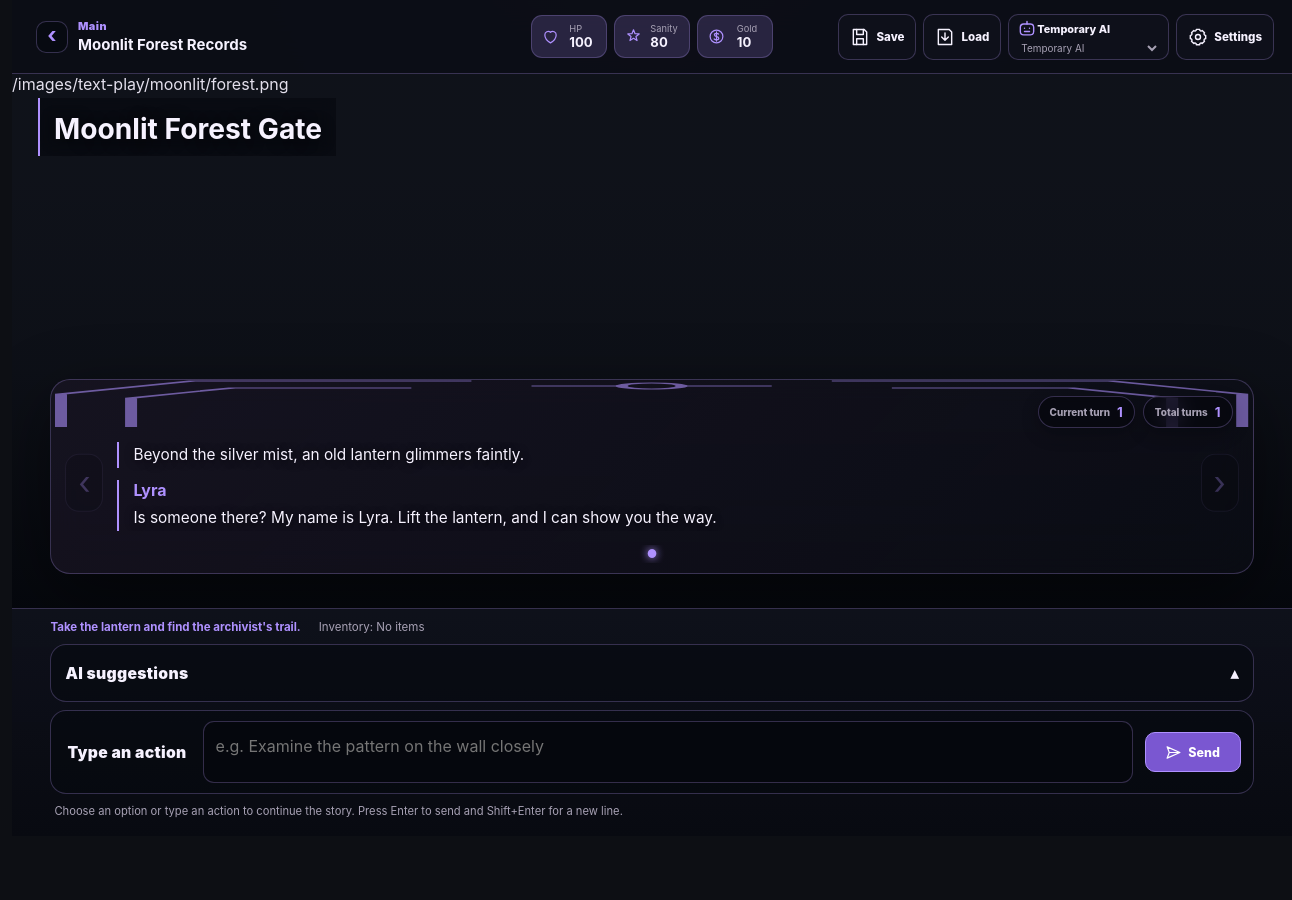
Text-Play 영어 화면 › 선택지·턴 기록·안내도 영어로 보여 준다
Click the button "AI suggestions ▴" at [127, 673], box left=63, top=653, right=1241, bottom=693
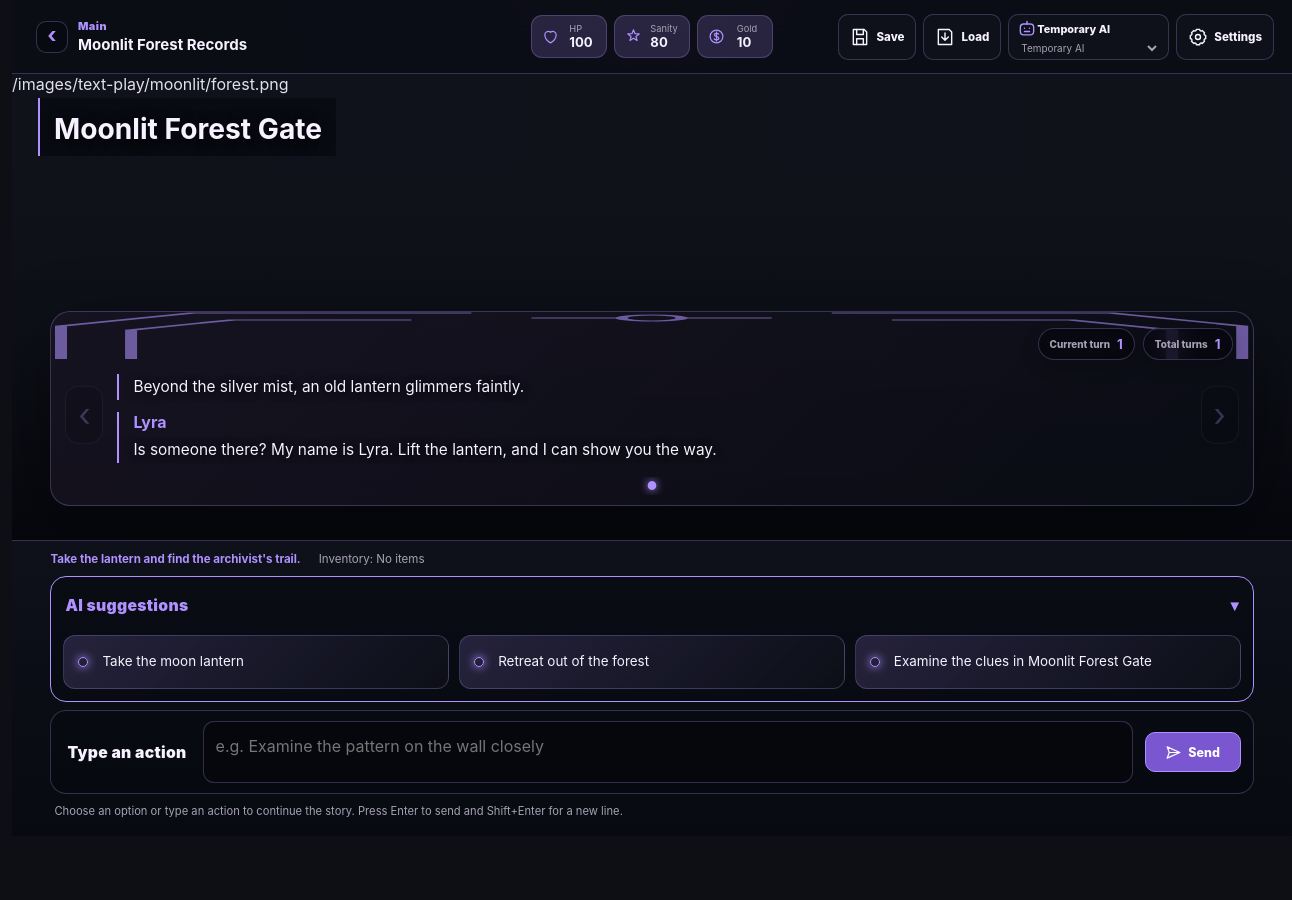
Click the button "Take the moon lantern" at [173, 661], box left=63, top=635, right=449, bottom=689
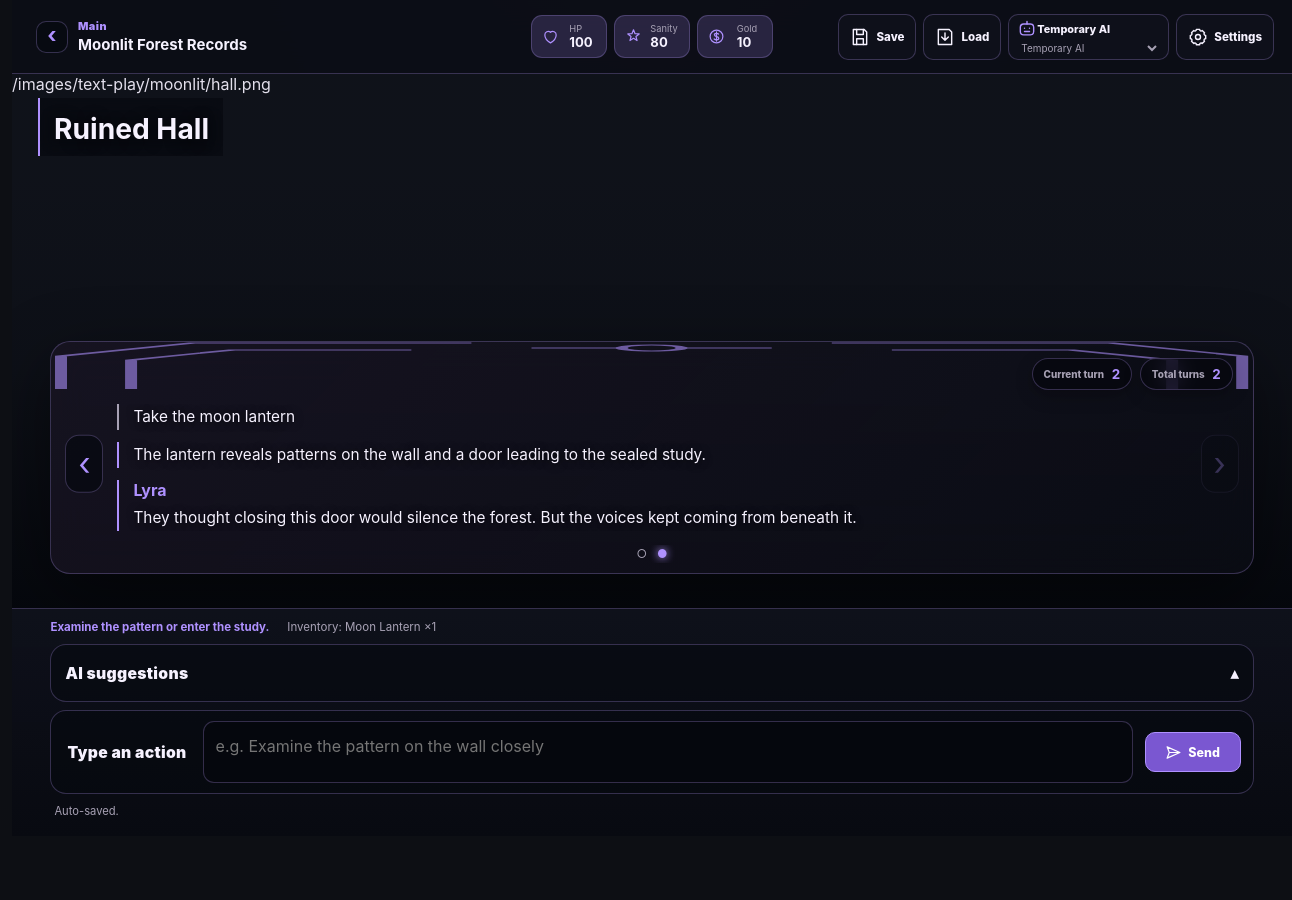
Expected: the heading "Ruined Hall" is shown, left=54, top=112, right=209, bottom=146
Expected: the text "The lantern reveals patterns on the wall and a door leading to the sealed study." is shown, left=133, top=445, right=706, bottom=464
Expected: the element labelled "Current turn 2" is shown, left=1032, top=358, right=1132, bottom=390
